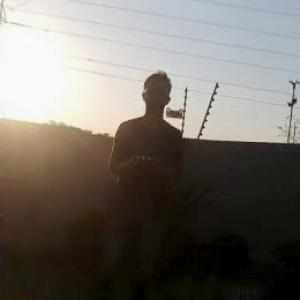follow: (97, 68, 183, 299)
